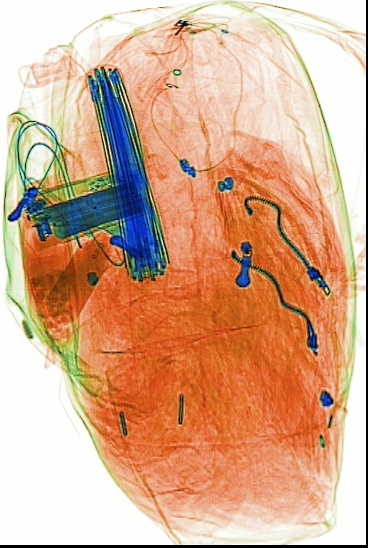powerbank: (25, 157, 152, 252)
